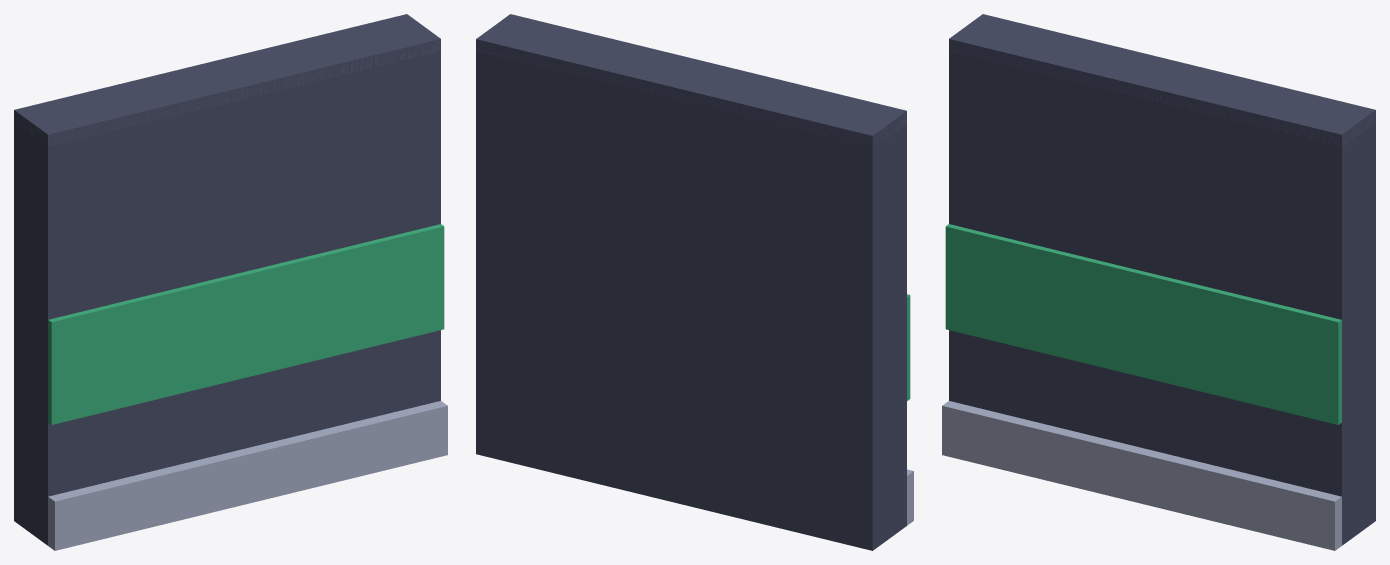
Rendered from wall.glb.
3 views of the same model, side by side, from view 1: azimuth 30°, elevation 25°; view 2: azimuth 150°, elevation 25°; view 3: azimuth 330°, elevation 25° (orthographic).
Parts seen in each view (by area): view 1: wall; view 2: wall; view 3: wall.
Boxes of the visible parts, x1,y1,x2,y2 form: wall: (14, 14, 447, 550); wall: (476, 14, 913, 550); wall: (942, 14, 1375, 550).
Bounding box in the file's own units: 1 × 1 × 0.18.
Materials: 1 (1 with a texture image).
